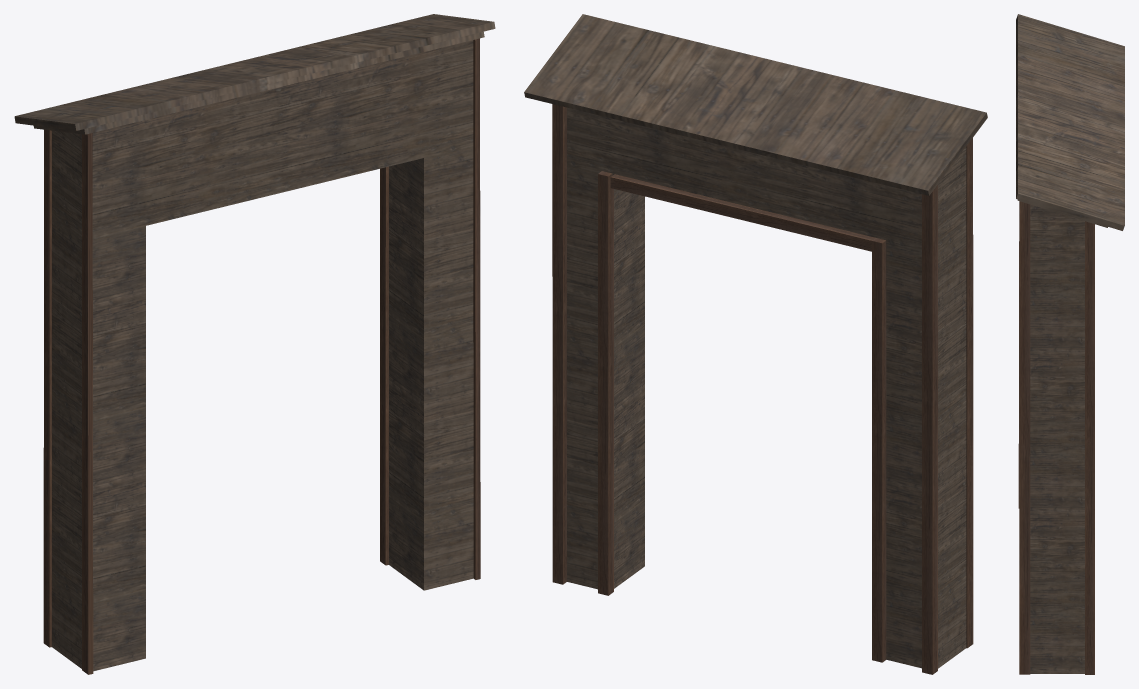
The model's file is jovhouse_window05c.fbx.
3 views of the same model, side by side, from view 1: azimuth 30°, elevation 25°; view 2: azimuth 150°, elevation 25°; view 3: azimuth 270°, elevation 25° (orthographic). The views are drawn at different scales.
Parts seen in each view (by area): view 1: jovhouse_window05c; view 2: jovhouse_window05c; view 3: jovhouse_window05c.
Boxes of the visible parts, x1,y1,x2,y2 form: jovhouse_window05c: [14, 14, 495, 674]; jovhouse_window05c: [524, 14, 987, 674]; jovhouse_window05c: [1016, 14, 1124, 674].
Size of the model in its own units: 337 by 425 by 86.09.
